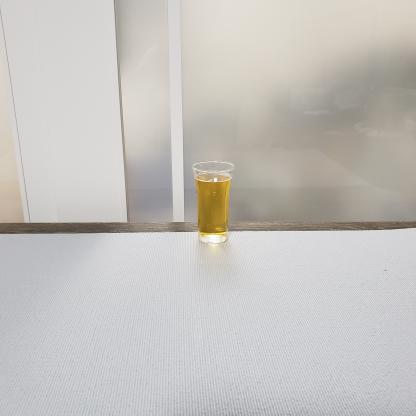glass: (188, 155, 243, 248)
